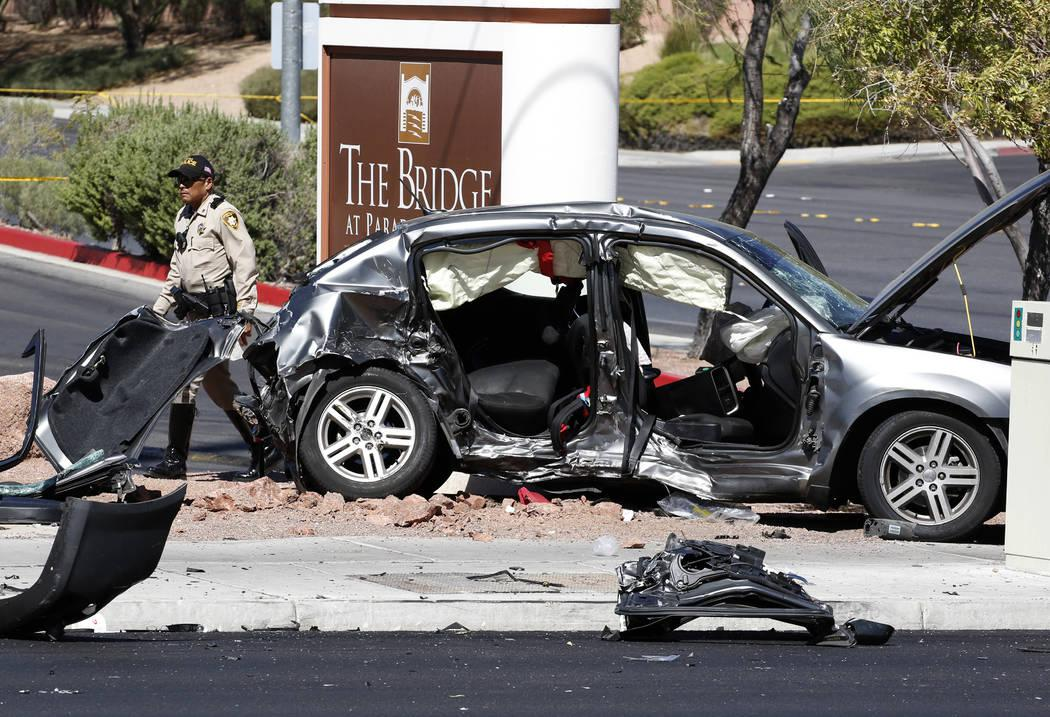car: (188, 185, 1050, 573)
